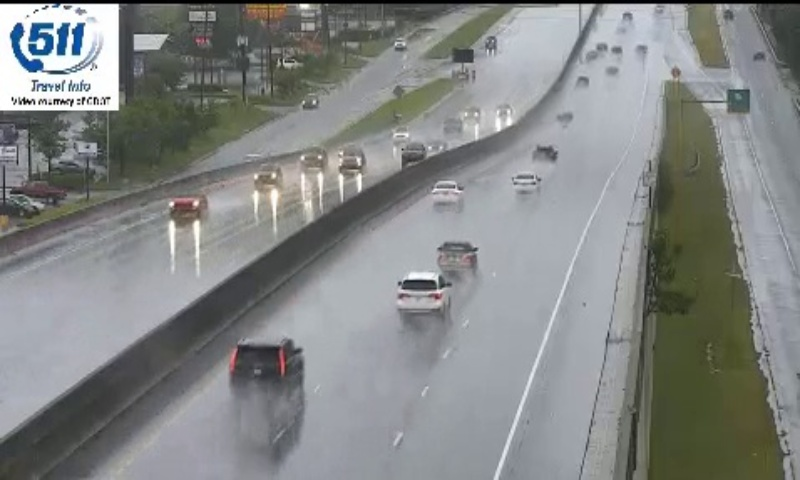car: (229, 337, 304, 394), (396, 272, 448, 314), (438, 241, 475, 272), (433, 180, 461, 205), (510, 173, 538, 192)
